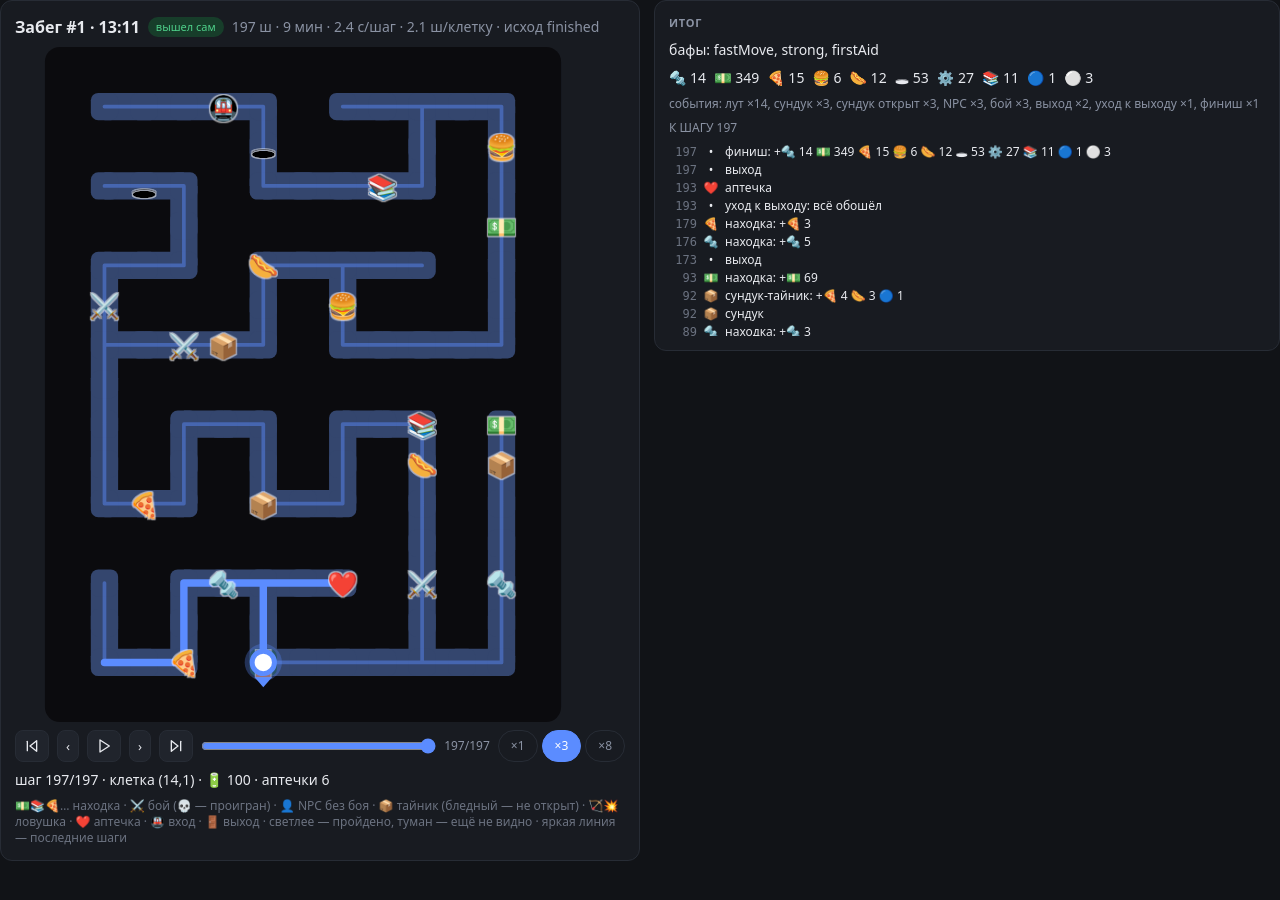
карта метро › тоннели, туман, путь со следом, вход/выход и проигрывание
The width and height of the screenshot is (1280, 900).
Expected: the text "шаг 197/197 · клетка (14,1) · 🔋 100 · аптечки 6" is shown, [15,770,329,789]
Set the slider named "Шаг" to "120" at [343, 746], box [201,738,436,754]
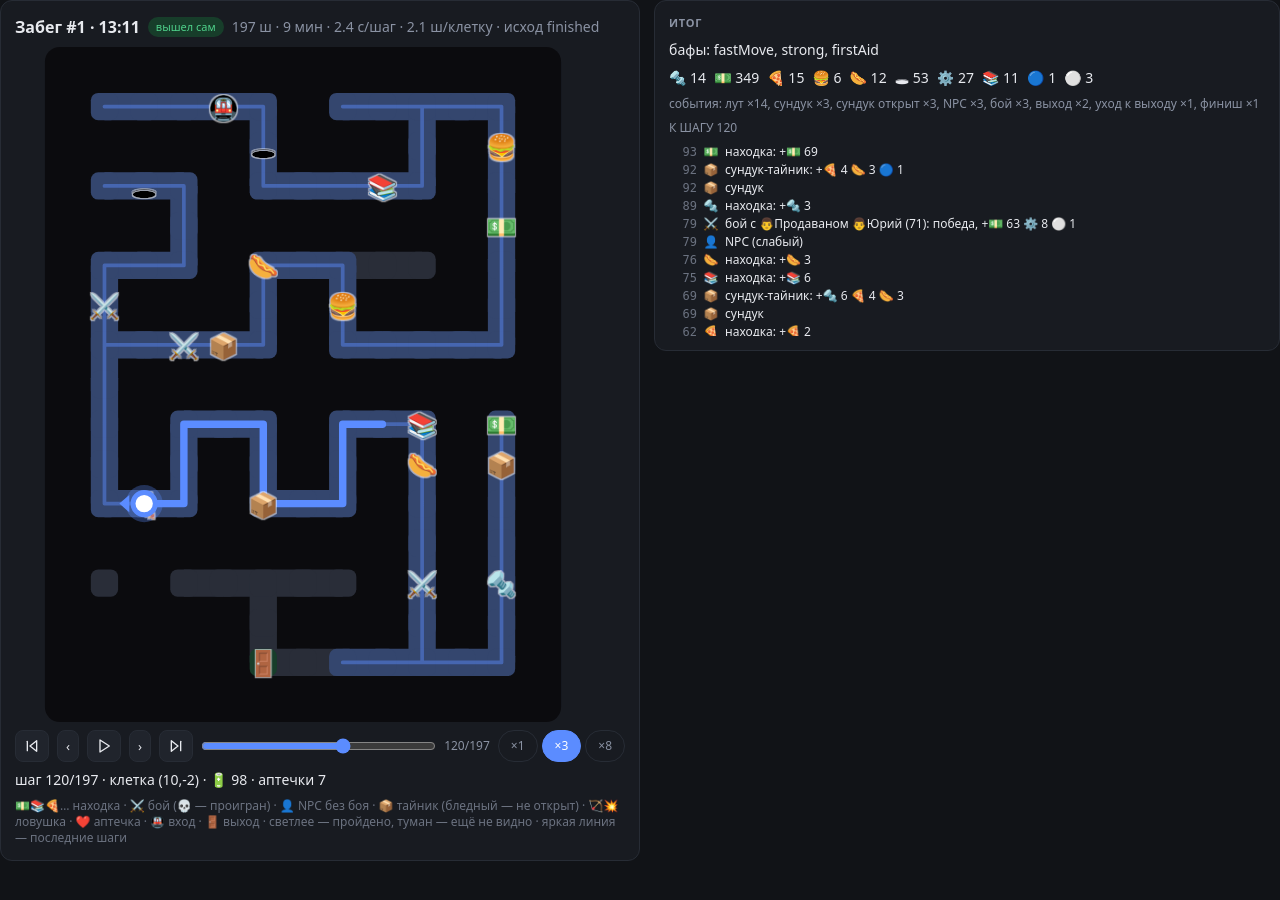
Now the text "шаг 120/197 · клетка (10,-2) · 🔋 98 · аптечки 7" is shown, box [15,770,326,789]
Click the button named "В начало" at [32, 746], box [15,730,49,762]
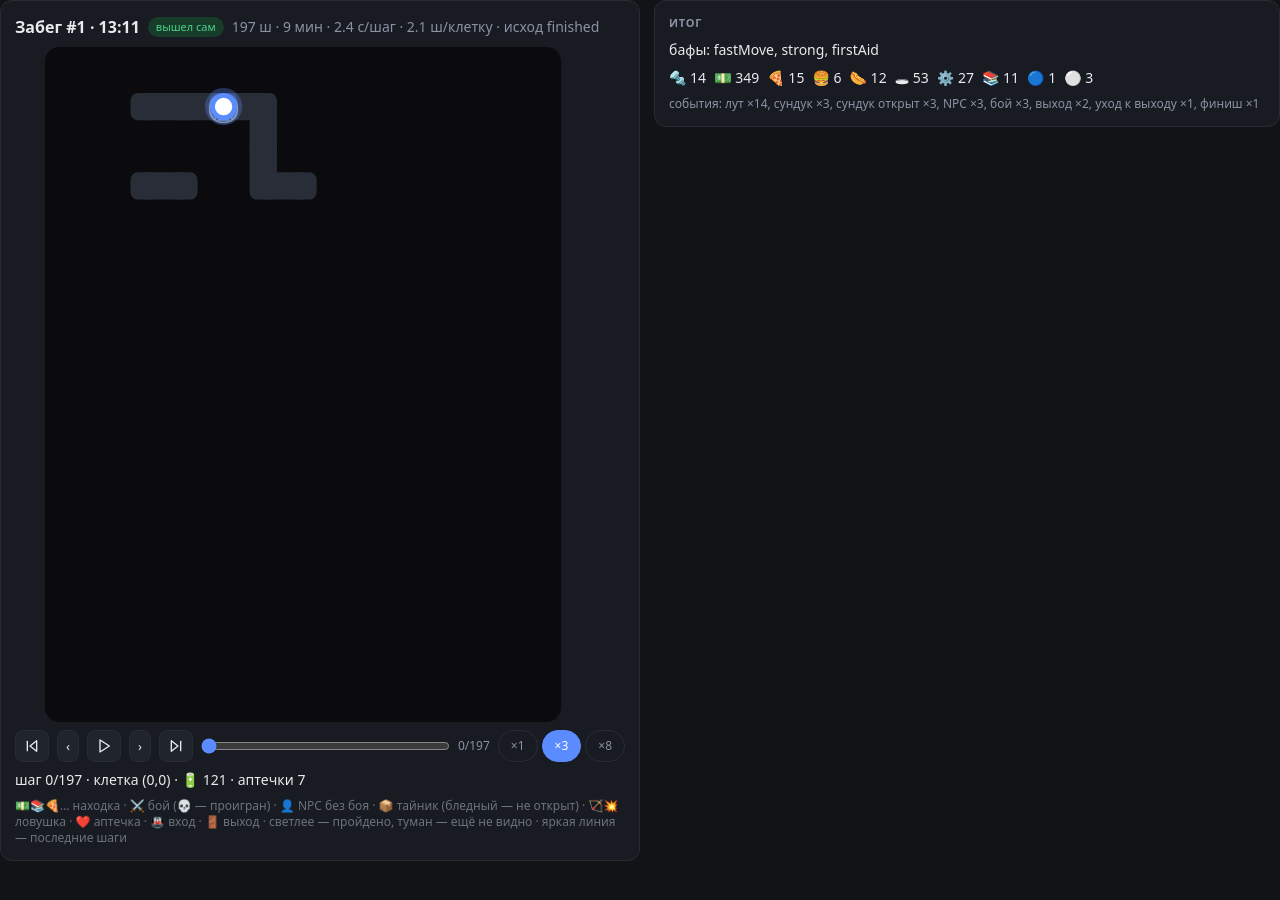
Now the text "шаг 0/197 · клетка (0,0) · 🔋 121 · аптечки 7" is shown, box [15,770,305,789]
Click the button named "Шаг вперёд" at [140, 746], box [129,730,151,762]
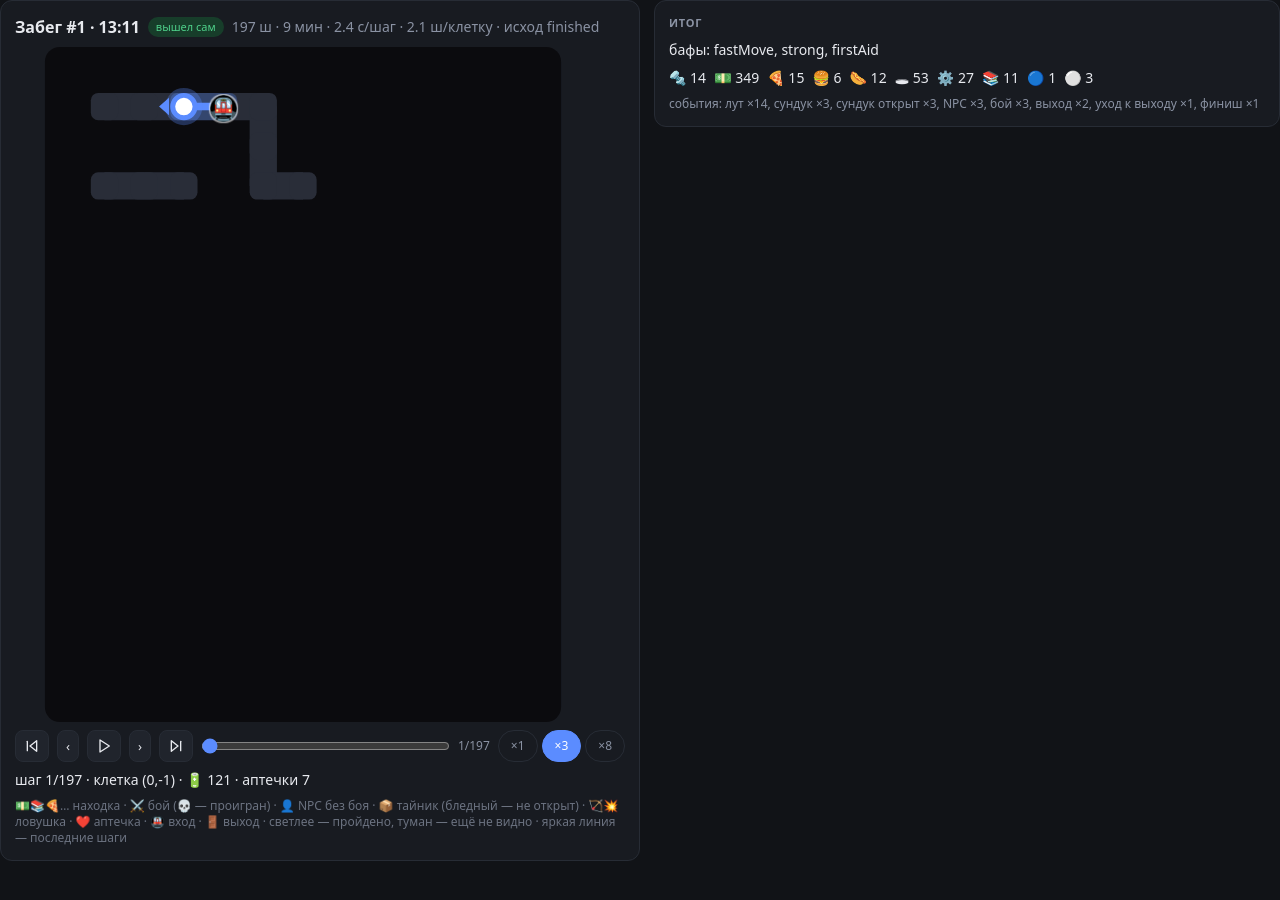
Now the text "шаг 1/197 · клетка (0,-1) · 🔋 121 · аптечки 7" is shown, box [15,770,310,789]
